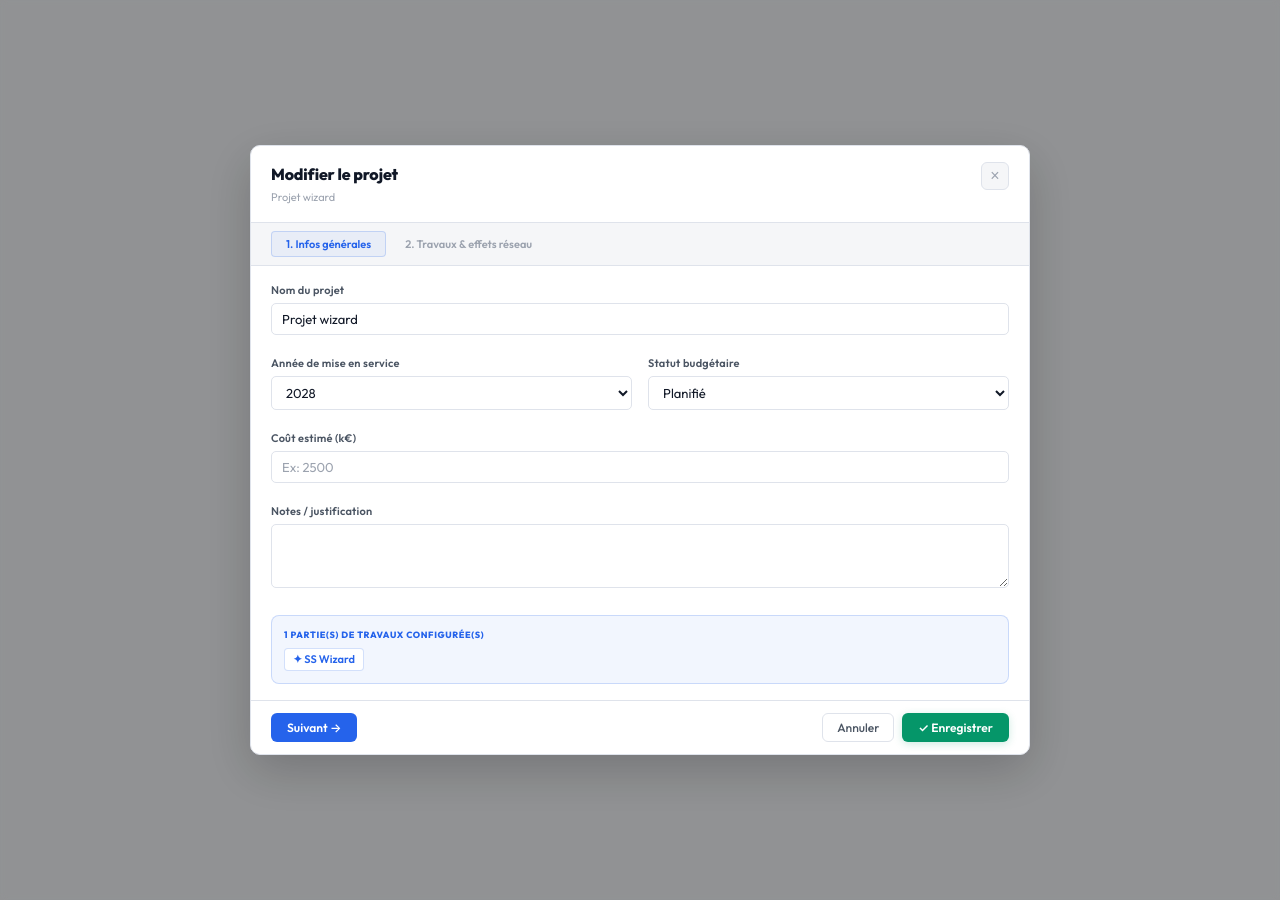
Test: ProjectWizard création SS › recharge les coordonnées d’une sous-station créée par projet
Step 1. Click the button "2. Travaux & effets réseau" → point(469, 244), box [390,231,547,257]
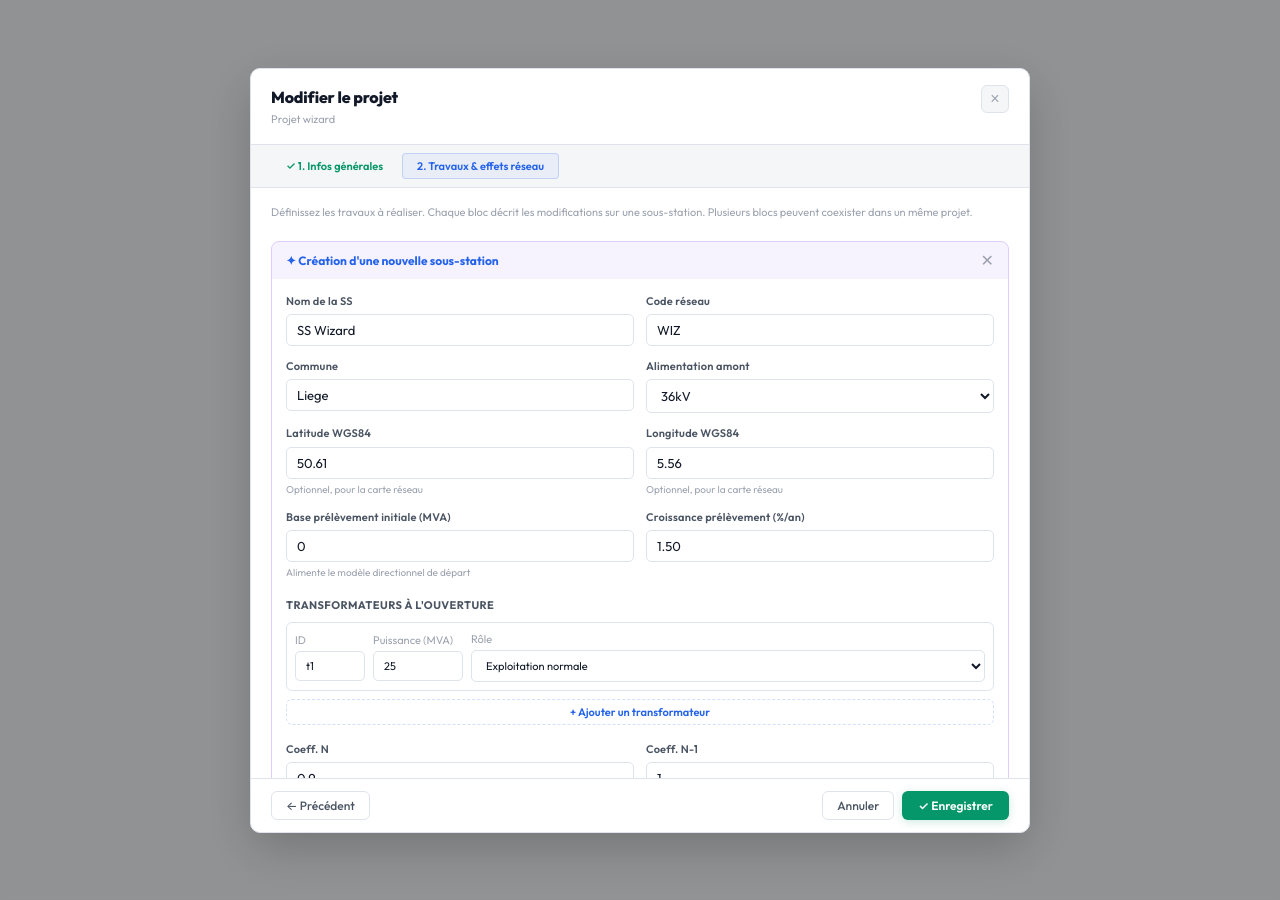
Now the field showing "50.61" below "Latitude WGS84" is shown, box [286,446,634,478]
Now the field showing "5.56" below "Longitude WGS84" is shown, box [646,446,994,478]
